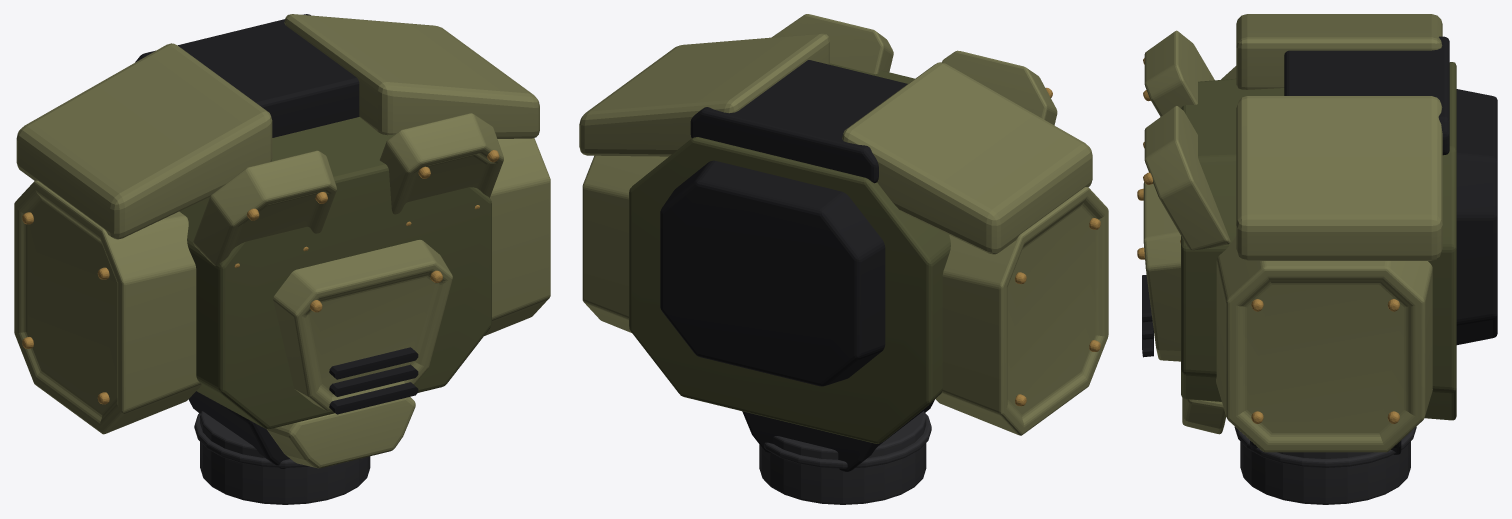
The model's file is recon_gen_core.glb.
3 views of the same model, side by side, from view 1: azimuth 30°, elevation 25°; view 2: azimuth 150°, elevation 25°; view 3: azimuth 270°, elevation 25° (orthographic). The views are drawn at different scales.
Visible parts, largest first — view 1: Chest, ChestSide1, Trap1, ChestCenter, Trap, Collar, ChestSide, ChestUpper1, ChestUpper, Waist, Belly, Abdomen (+3 smaller); view 2: Back, Chest, ChestSide1, Trap1, Trap, Collar, Waist, ChestSide, ChestUpper1, ChestUpper, Abdomen; view 3: ChestSide, Trap, Chest, Back, Trap1, Collar, Waist, ChestUpper, ChestCenter, ChestUpper1, Belly.
Boxes of the visible parts, x1,y1,x2,y2 form: Chest: (179,117,491,429); ChestSide1: (14,180,201,434); Trap1: (16,43,272,239); ChestCenter: (273,240,452,410); Trap: (284,14,539,138); Collar: (135,14,359,137); ChestSide: (484,138,550,335); ChestUpper1: (193,150,336,267); ChestUpper: (380,113,503,225); Waist: (194,411,370,504); Belly: (266,397,415,468); Abdomen: (188,391,289,468); Back: (660,160,885,386); Chest: (629,63,950,443); ChestSide1: (935,187,1108,435); Trap1: (842,62,1092,254); Trap: (579,33,829,156); Collar: (690,60,907,183); Waist: (759,411,931,504); ChestSide: (582,155,668,332); ChestUpper1: (942,50,1057,125); ChestUpper: (771,14,893,74); Abdomen: (742,400,934,471); ChestSide: (1216,236,1432,452); Trap: (1236,96,1442,260); Chest: (1181,62,1456,420); Back: (1456,89,1497,344); Trap1: (1236,14,1442,89); Collar: (1284,36,1449,155); Waist: (1234,426,1416,504); ChestUpper: (1143,106,1230,250); ChestCenter: (1137,182,1180,361); ChestUpper1: (1143,30,1214,116); Belly: (1182,398,1226,434).
Bounding box in the file's own units: 3.76 × 3.22 × 2.62.
